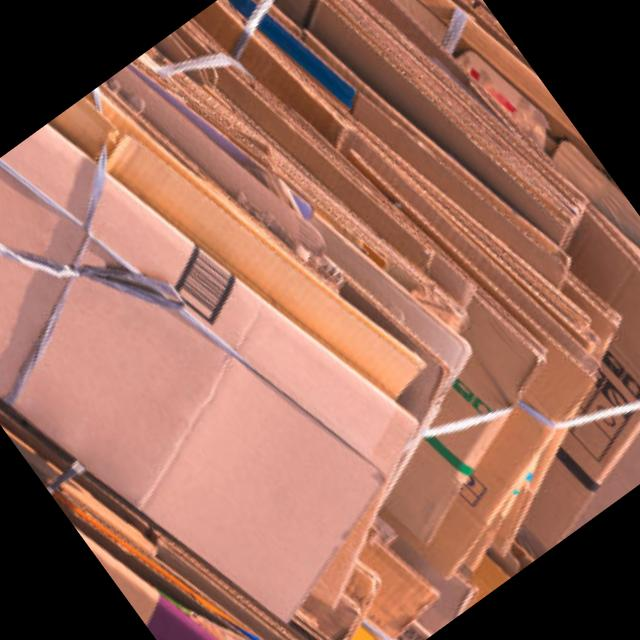Kardus: (0, 0, 640, 640), (0, 49, 468, 640)
